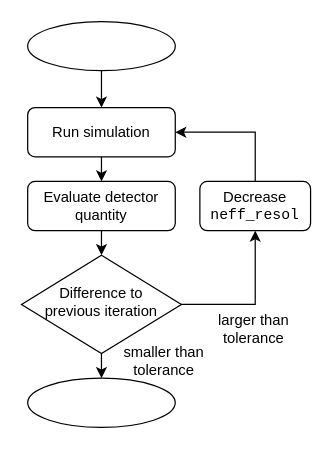
This 332x449 diagram has some shape labels left out. The shapes that lost their labels are listed below. From the top down, each one's centre as x and y in pixels, then its label:
(x=100, y=45): Start
(x=100, y=402): End
